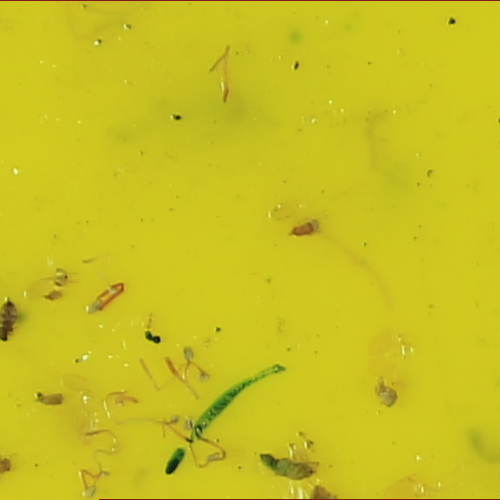psylla: (258, 450, 324, 483)
